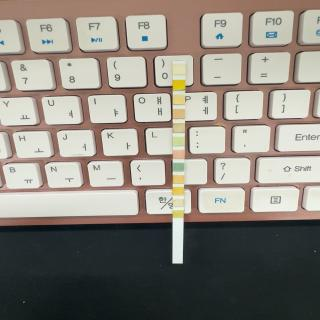mark: (172, 64, 185, 76), (173, 94, 185, 105), (173, 80, 185, 91), (172, 109, 185, 119), (173, 124, 185, 134), (173, 162, 184, 172), (173, 137, 185, 146), (173, 175, 184, 184), (174, 150, 185, 159), (173, 187, 184, 195), (173, 198, 182, 207), (174, 210, 184, 218)
